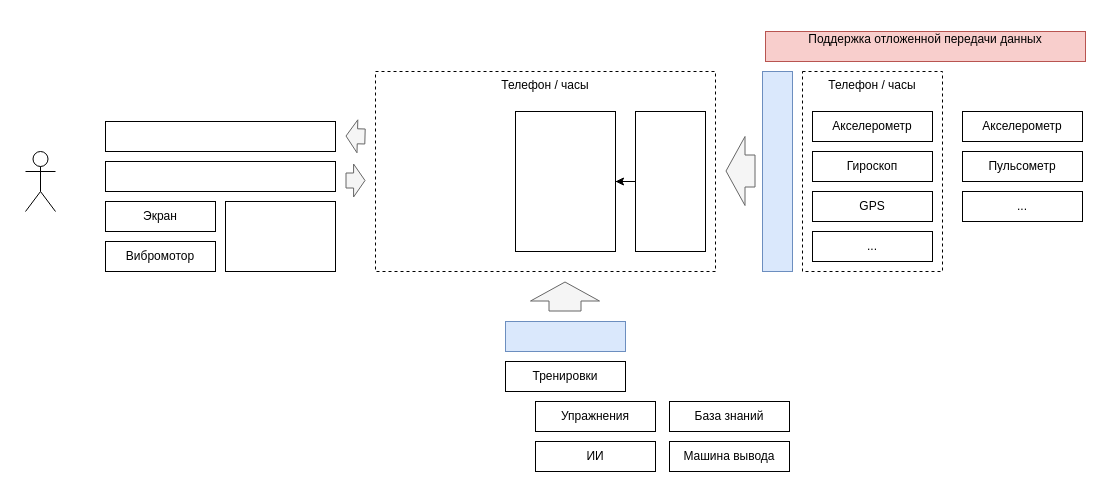
Some shapes in this 1103 by 489 pixel diagram are drawn without their labels. Here are the shapes that lost their labels. From the top down, the centre of each, then its label:
At (220,136): "Наушники".
At (40,181): "Человек".
At (220,176): "Микрофон".
At (565,181): "Прохождение программы тренировки".
At (670,181): "Анализ датчиков реального времени".
At (777,171): "Датчики реального времени".
At (280,236): "Телефон".
At (565,336): "Тренировка".
